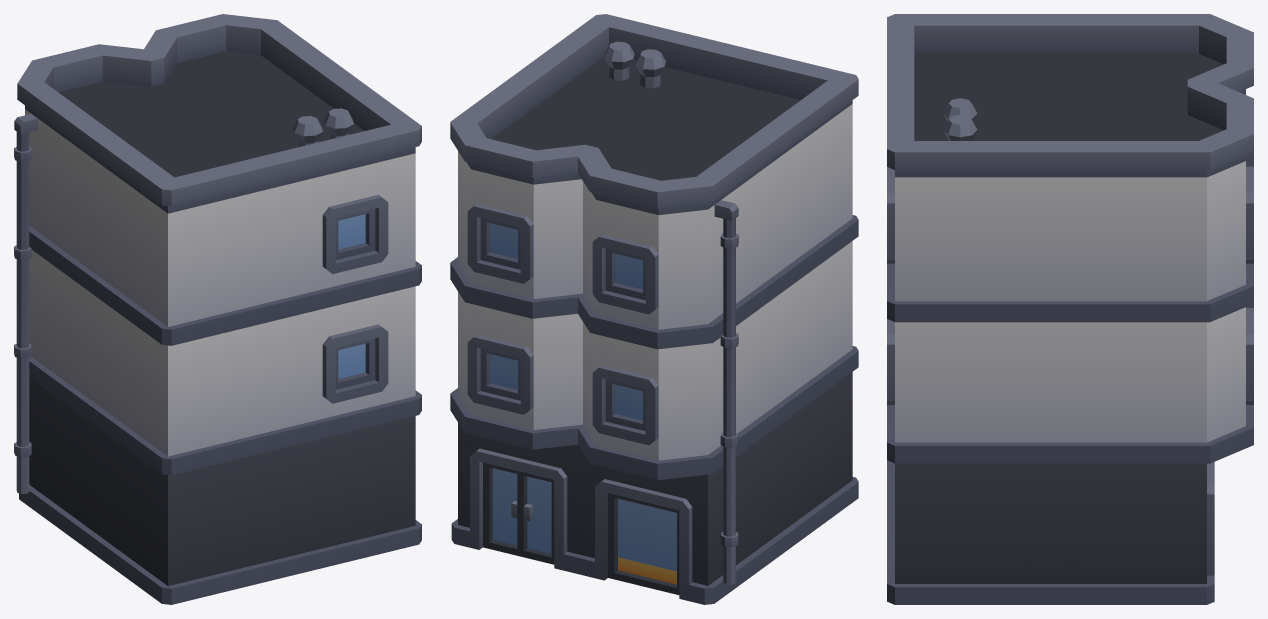
File: building-a-high.glb
The picture shows the model from 3 angles, left to right: view 1: azimuth 30°, elevation 25°; view 2: azimuth 150°, elevation 25°; view 3: azimuth 270°, elevation 25°; orthographic projection. The views are drawn at different scales.
Bounding box in the file's own units: 0.8836 × 1.29 × 0.94.
